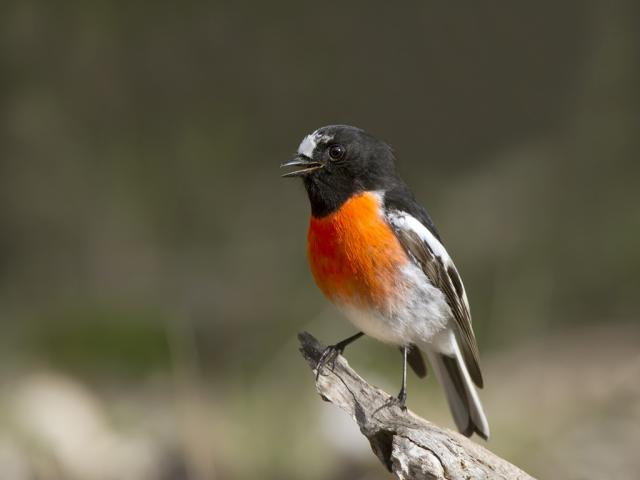Bird: (277, 123, 491, 439)
